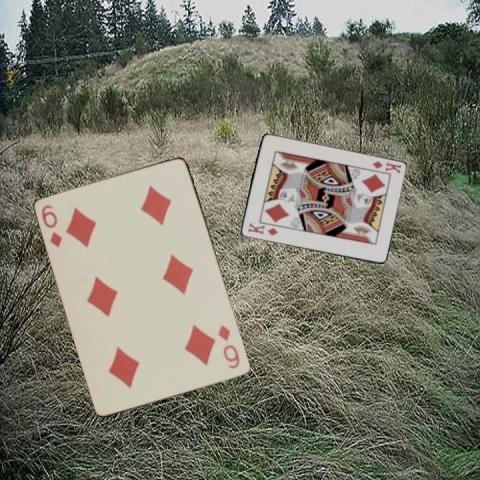6d: (215, 322, 241, 371), (39, 202, 64, 250)
Kd: (244, 220, 278, 237), (369, 158, 403, 175)
